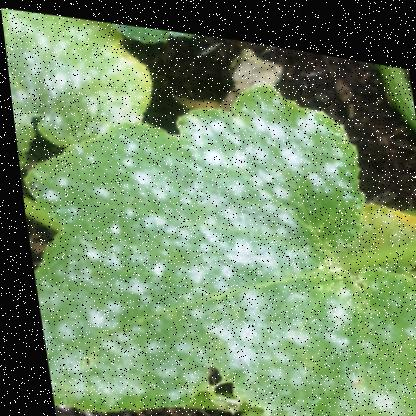PowderyMildew: (98, 103, 412, 415), (29, 277, 182, 404), (0, 4, 127, 112)
